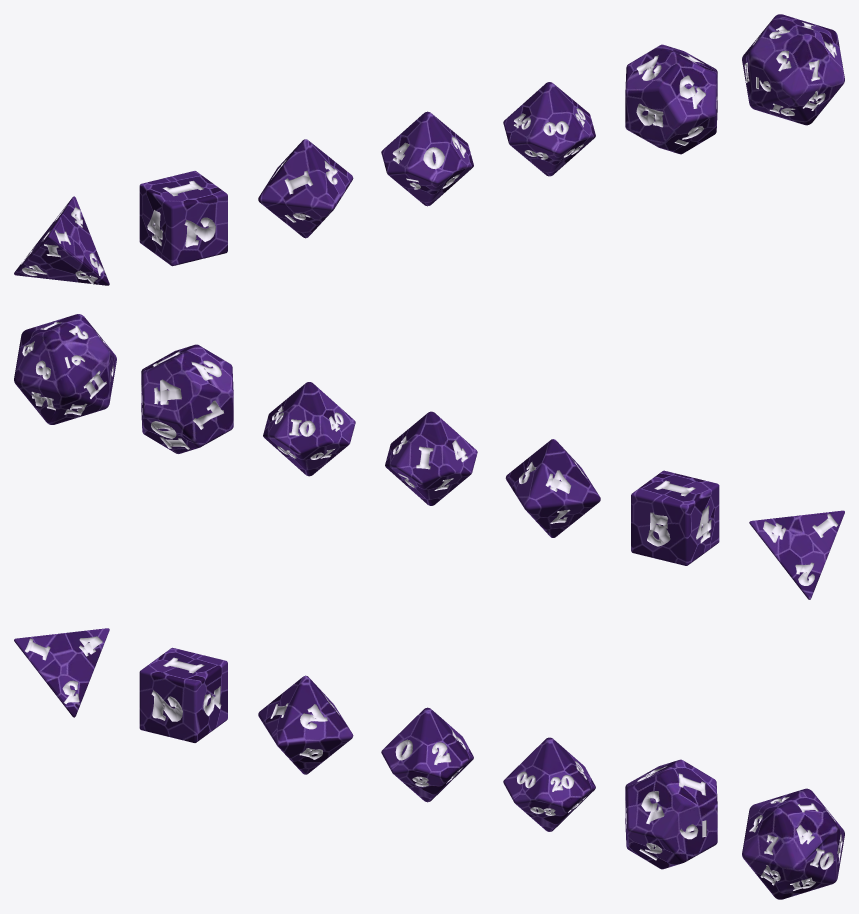
The model's file is amethyst.glb.
The picture shows the model from 3 angles, top to bottom: view 1: azimuth 30°, elevation 25°; view 2: azimuth 150°, elevation 25°; view 3: azimuth 330°, elevation 25°; orthographic projection.
Visible parts, largest first — view 1: d20, d12, d6, d100, d10, d8, d4; view 2: d20, d12, d6, d100, d10, d8, d4; view 3: d20, d12, d6, d8, d10, d100, d4.
Part boxes in pixels (bbox=[...]): d20: bbox=[742, 14, 844, 125]; d12: bbox=[625, 44, 717, 154]; d6: bbox=[139, 171, 227, 266]; d100: bbox=[503, 82, 595, 176]; d10: bbox=[381, 111, 473, 206]; d8: bbox=[258, 139, 353, 238]; d4: bbox=[14, 196, 109, 285]; d20: bbox=[14, 314, 116, 424]; d12: bbox=[141, 344, 233, 453]; d6: bbox=[631, 470, 719, 565]; d100: bbox=[263, 382, 355, 476]; d10: bbox=[385, 411, 477, 505]; d8: bbox=[505, 439, 600, 537]; d4: bbox=[749, 510, 844, 599]; d20: bbox=[742, 788, 844, 899]; d12: bbox=[625, 759, 717, 869]; d6: bbox=[139, 647, 227, 742]; d8: bbox=[258, 675, 353, 774]; d10: bbox=[381, 707, 473, 802]; d100: bbox=[503, 737, 595, 831]; d4: bbox=[14, 628, 109, 717].
Bounding box in the file's own units: 21.14 × 2.47 × 2.47.
Materials: 14 (7 with a texture image).
